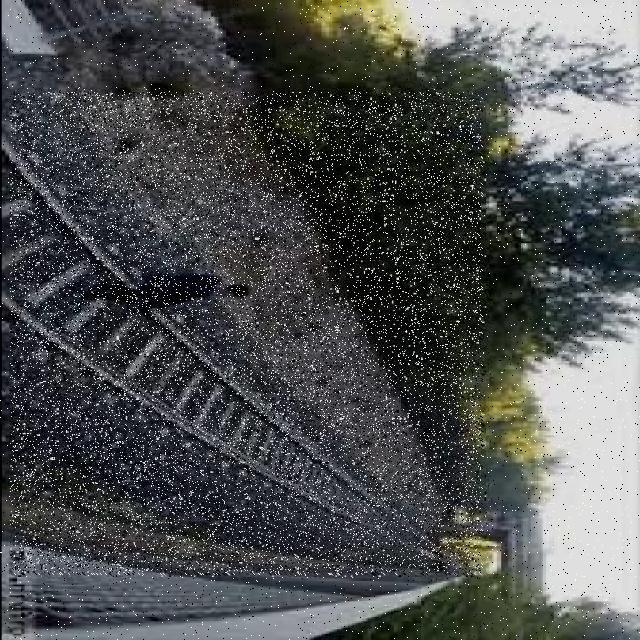rail: (12, 93, 483, 575)
